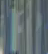Parking: (10, 6, 47, 52)
